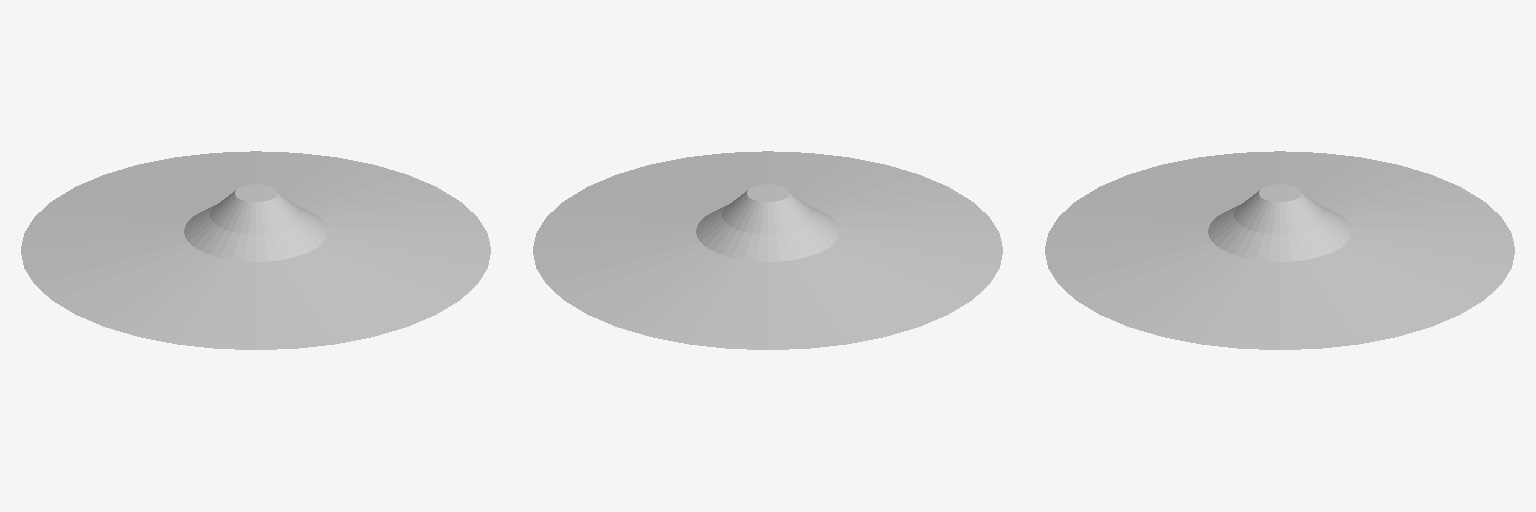
File: ufo.obj
The picture shows the model from 3 angles: view 1: azimuth 30°, elevation 25°; view 2: azimuth 150°, elevation 25°; view 3: azimuth 270°, elevation 25°; orthographic projection.
Visible parts, largest first — view 1: Cube; view 2: Cube; view 3: Cube.
Part boxes in pixels (x1,y1,x2,y2): Cube: (21,151,490,349); Cube: (533,151,1002,349); Cube: (1045,151,1514,349).
Bounding box in the file's own units: 3.22 × 0.9467 × 3.22.